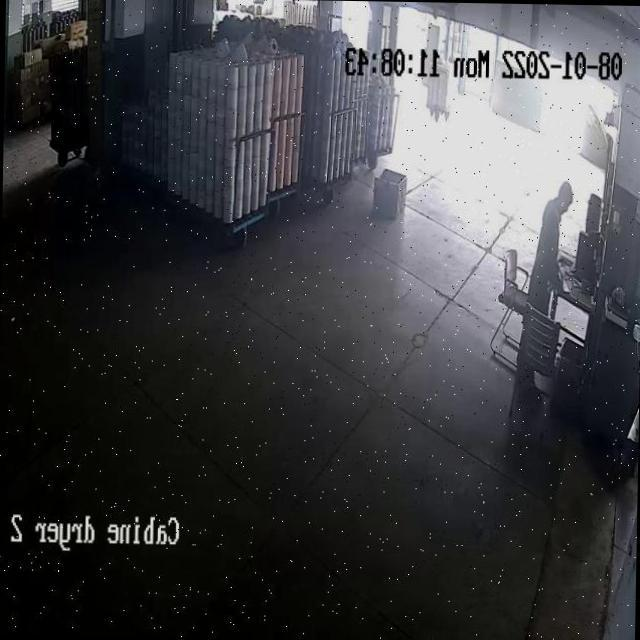person: (522, 188, 572, 316)
